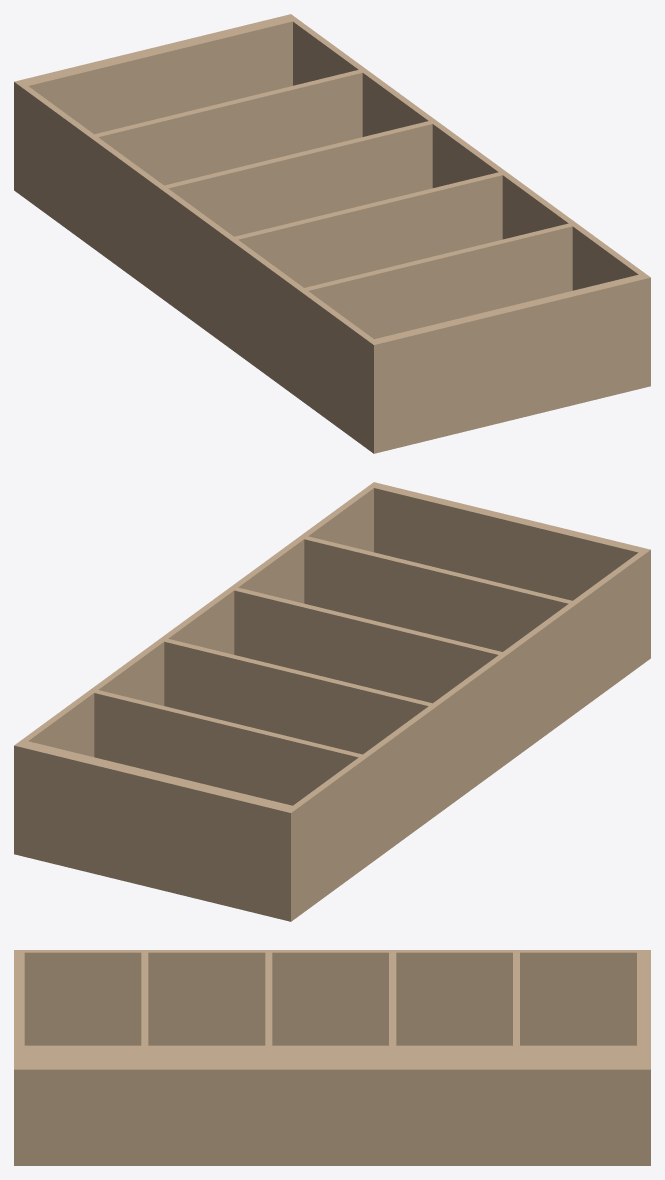
Rendered from bookshelf.glb.
3 views of the same model, one above another, from view 1: azimuth 30°, elevation 25°; view 2: azimuth 150°, elevation 25°; view 3: azimuth 270°, elevation 25° (orthographic). The views are drawn at different scales.
Visible parts, largest first — view 1: bookshelf; view 2: bookshelf; view 3: bookshelf.
Boxes of the visible parts, bbox=[...] form: bookshelf: bbox=[14, 14, 650, 453]; bookshelf: bbox=[14, 482, 650, 921]; bookshelf: bbox=[14, 950, 650, 1165].
Bounding box in the file's own units: 800 × 300 × 1800.
